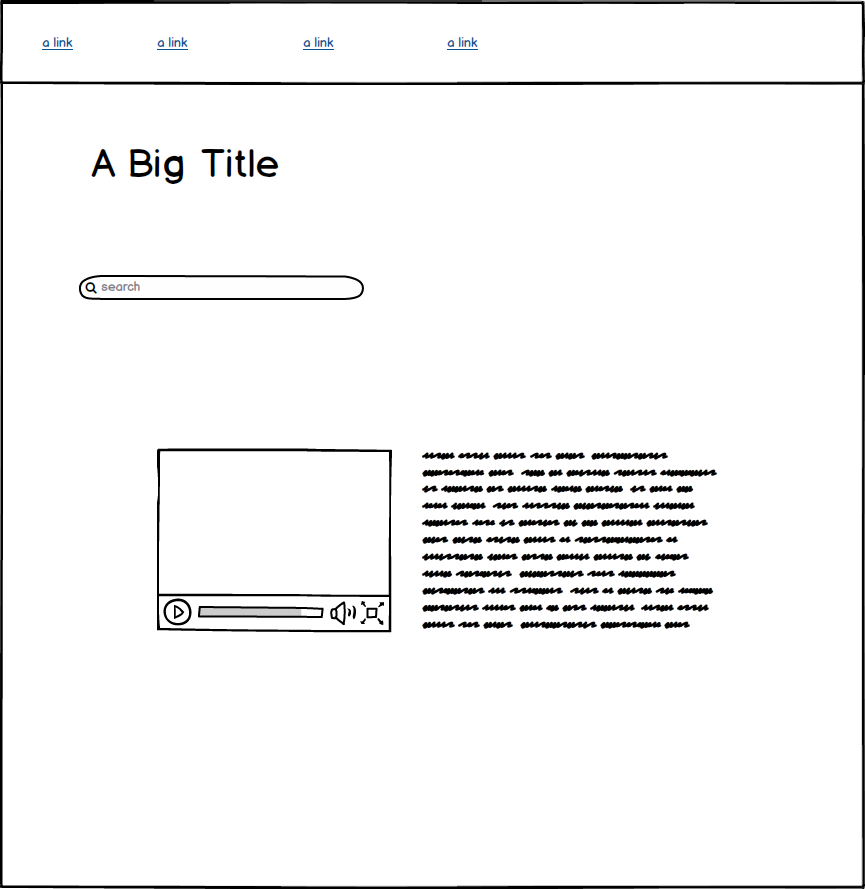h1: (83, 129, 286, 189)
navlink: (145, 23, 203, 61), (297, 27, 353, 59), (30, 25, 83, 56), (434, 31, 487, 61)
p: (420, 446, 722, 639)
search: (72, 267, 379, 308)
video: (151, 440, 401, 639)
